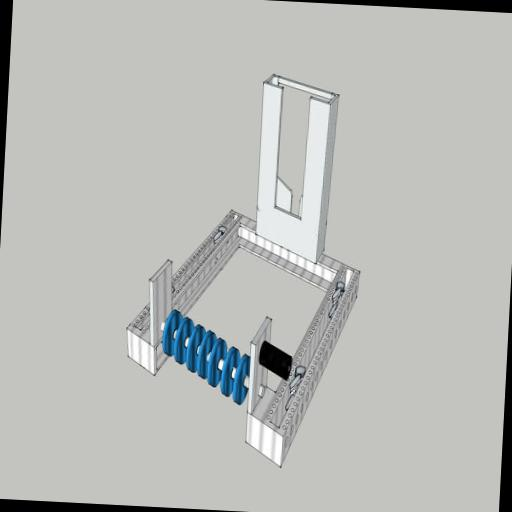robot: (120, 67, 370, 476)
